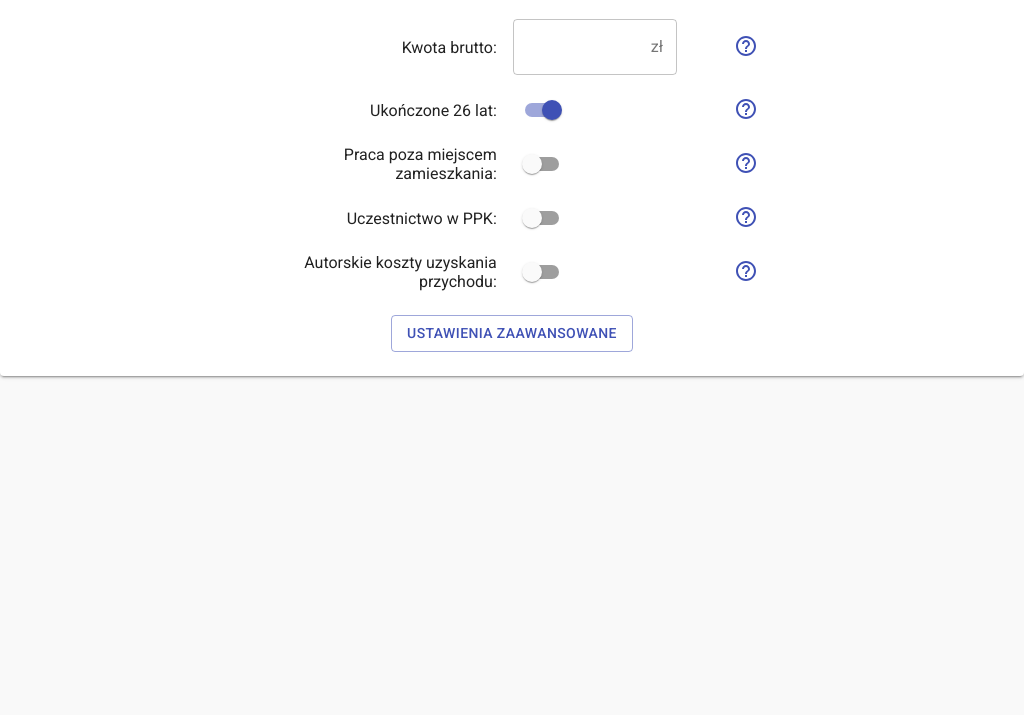
Test: Employment component › calculates result on entry value change
Step 1. Type "5000" into the field with id "employmentEntryValue" → (578, 47), box [513,19,643,75]
(page scrolled)
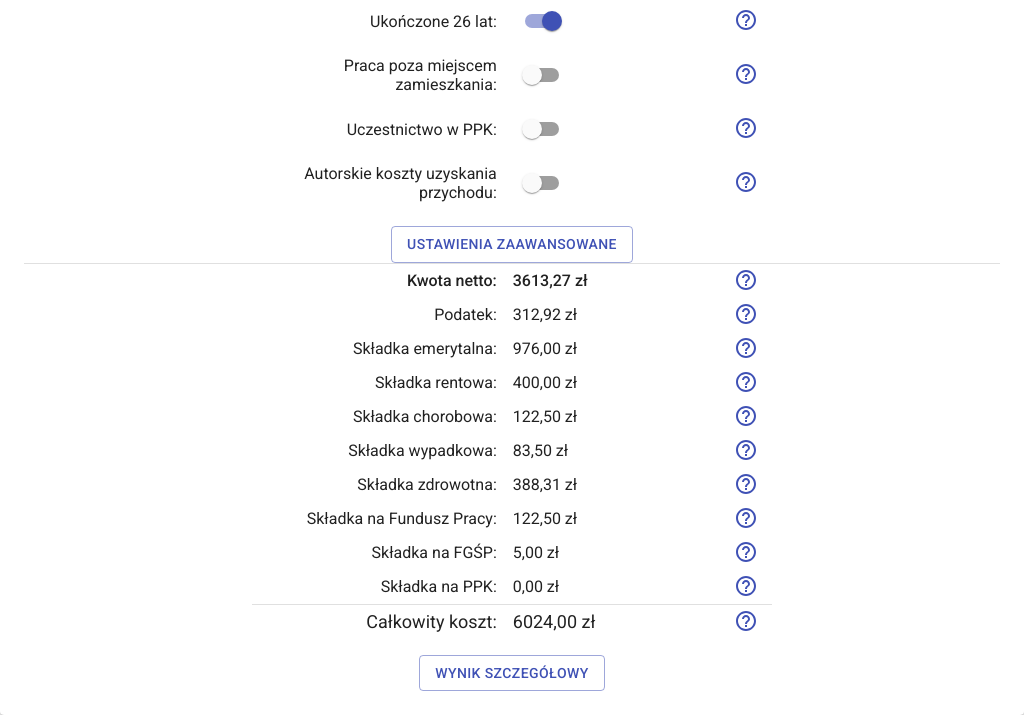
expect the text "Wynik" is shown: met, box [435,665,589,681]
